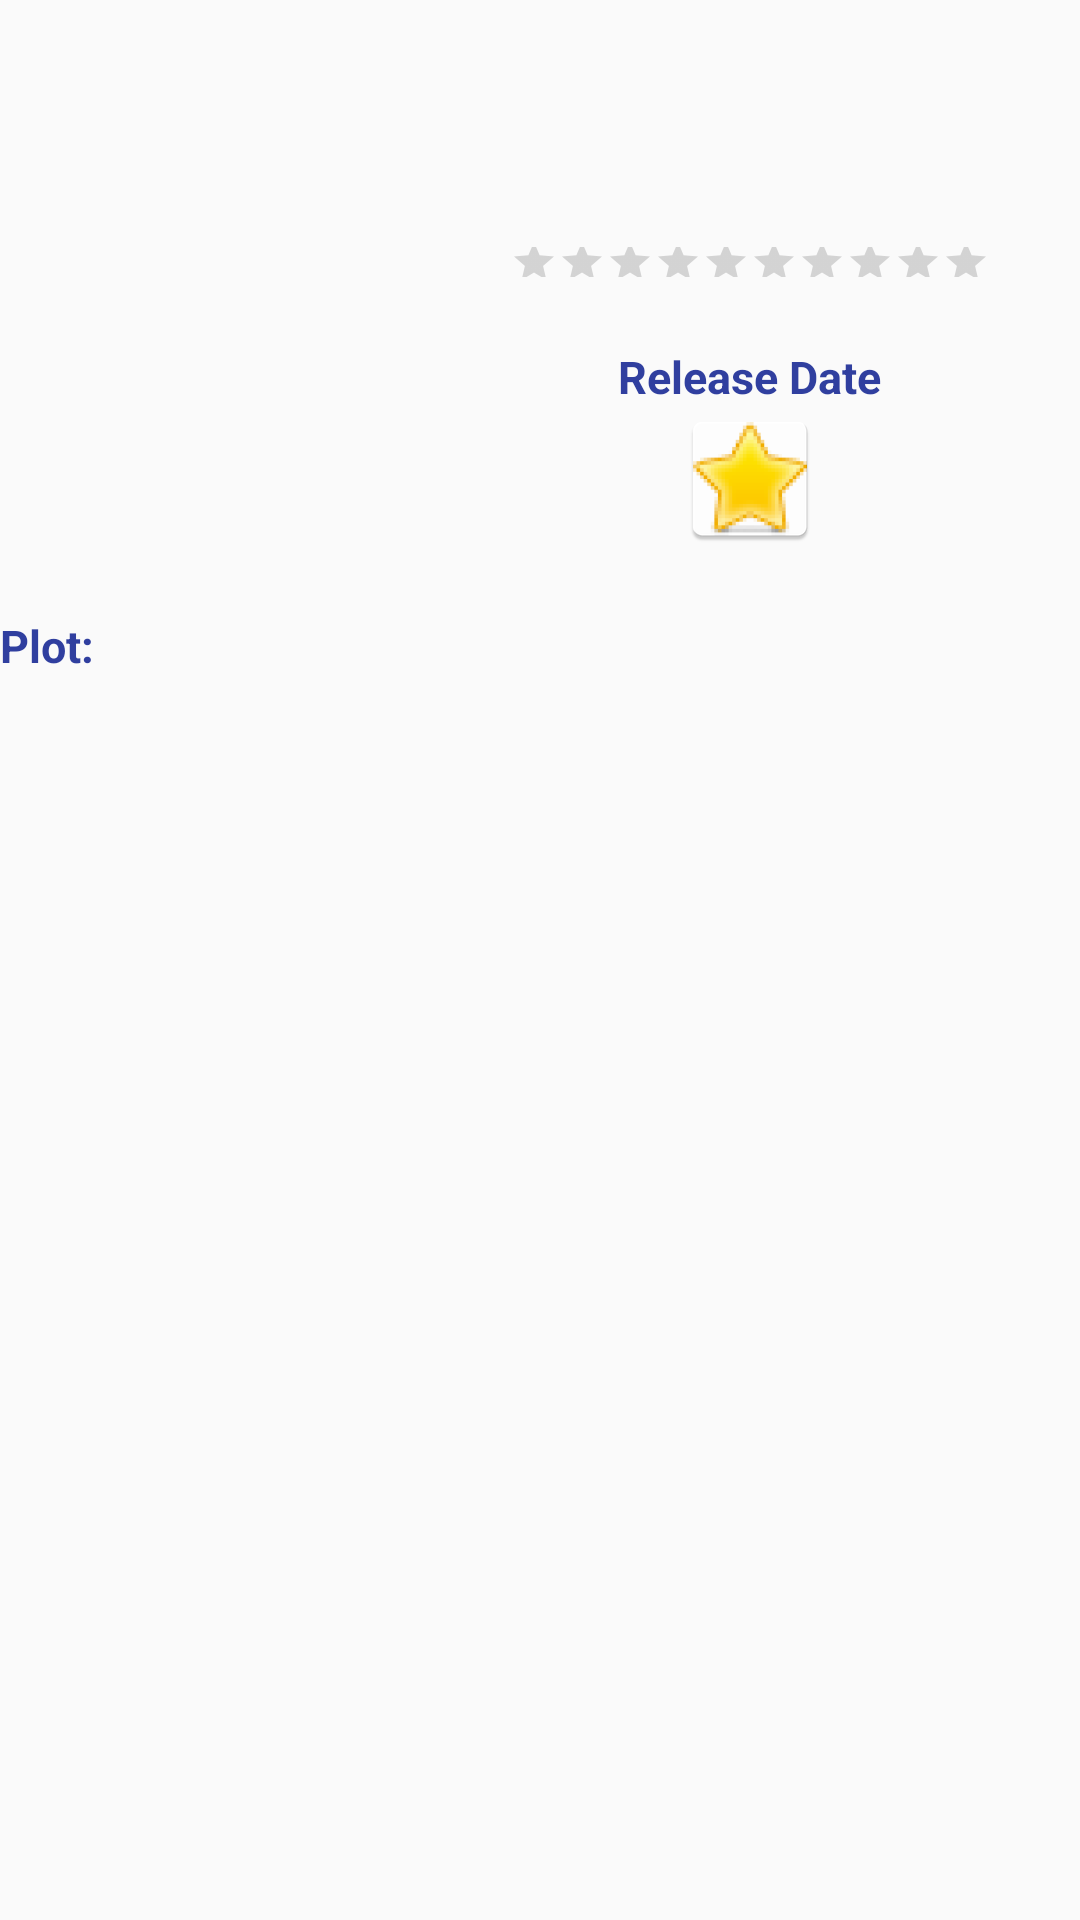

Icons on this 1080w x 1920h Android screen, each with the point to tap as (x,y):
star on: (750,481)
